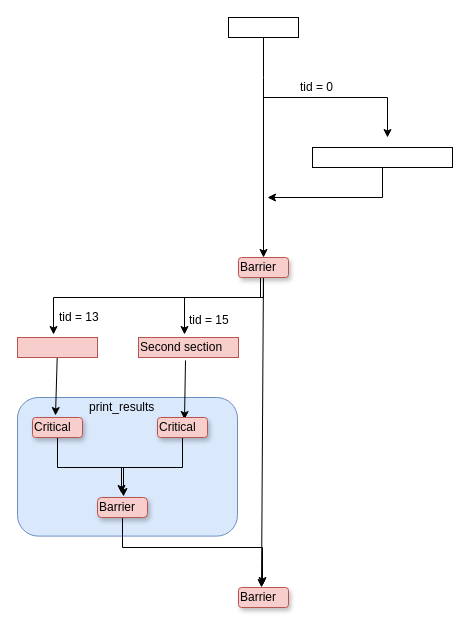
The diagram is 470 pixels wide and 632 high, and some of its shapes have lost their labels. Each missing label, with the centre of its shape:
"20 threads" goes at point 263,27.
"First section" goes at point 57,347.
"Print number of threads" goes at point 382,157.
